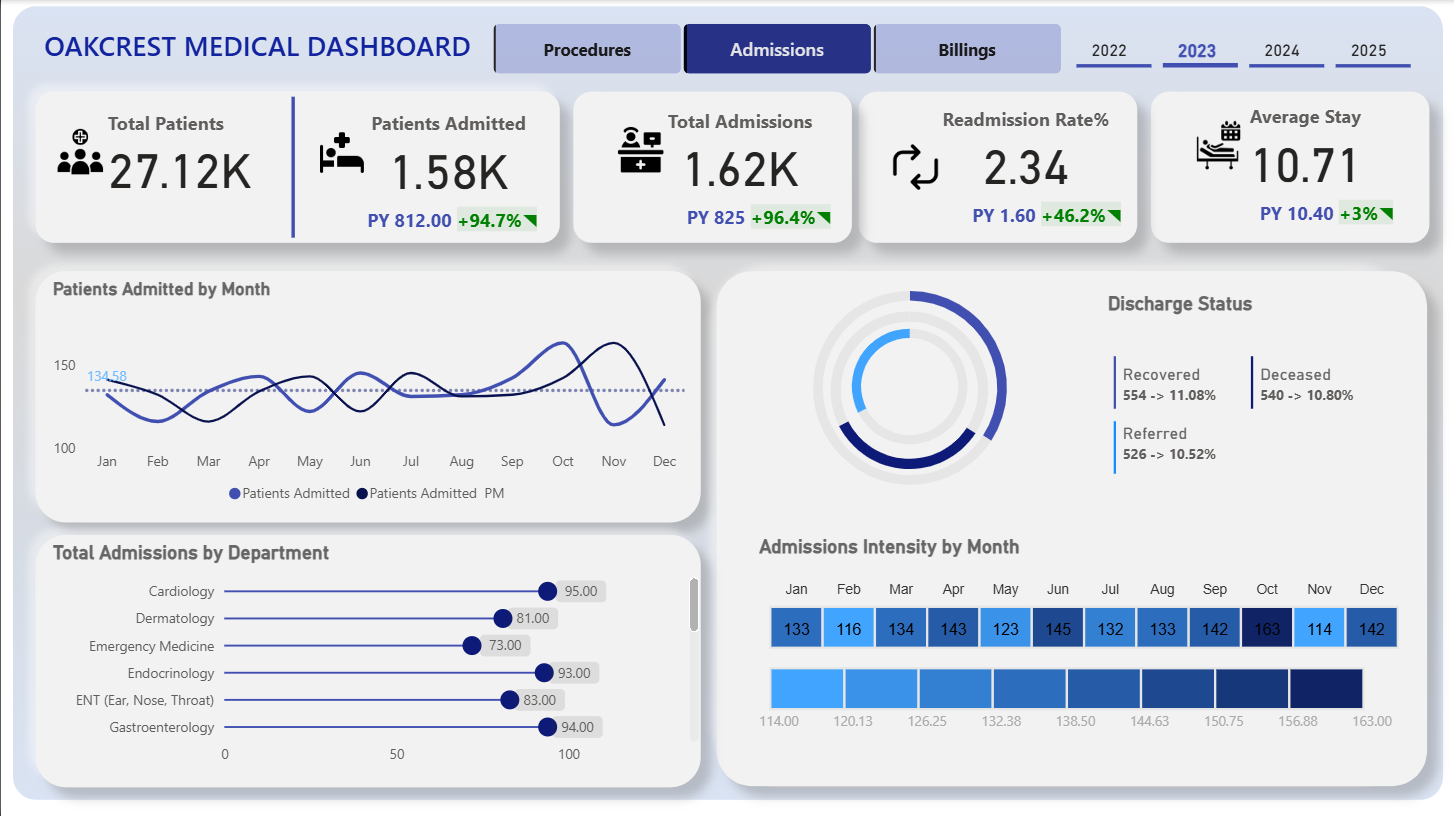

This screenshot's page, from the dashboard's own definition file:
{"tool":"powerbi","page":{"name":"Admissions","canvas":[1280,720],"ordinal":1},"visuals":[{"type":"advancedSlicerVisual","fields":{"Values":["Calendar.Year"]},"box":[941.7,17.8,305.4,47.1],"z":0},{"type":"advancedSlicerVisual","fields":{"Values":["admissions.DischargeStatus"]},"box":[969.2,302.6,252.6,114.1],"z":0,"group":"g1"},{"type":"cardVisual","fields":{"Data":["All Measures.Total Admissions"]},"box":[509,78.2,238.5,132.1],"z":1000},{"type":"shape","box":[967.9,314.1,24.4,46.2],"z":1000,"group":"g1"},{"type":"cardVisual","fields":{"Data":["All Measures.Readmission Rate (%)"]},"box":[756.4,73.1,246.2,148.7],"z":2000},{"type":"shape","box":[967.9,370.5,24.4,46.2],"z":2000,"group":"g1"},{"type":"cardVisual","fields":{"Data":["All Measures.Average Length of Stay"]},"box":[1003.5,72.6,238.5,144],"z":3000},{"type":"shape","box":[1094.8,314.1,12.8,46.2],"z":3000,"group":"g1"},{"type":"cardVisual","fields":{"Data":["All Measures.Total Patients"]},"box":[32.7,72.6,217.9,125.9],"z":4000},{"type":"cardVisual","fields":{"Data":["All Measures.Patients Admitted"]},"box":[251.1,79.9,238.6,134.9],"z":5000},{"type":"lineChart","title":"Patients Admitted by Month","fields":{"Y":["All Measures.Patients Admitted","All Measures.Patients PM"],"Category":["Calendar.Month"]},"box":[41.2,244.8,565.8,207.3],"z":6000},{"type":"clusteredBarChart","title":"Total Admissions by Department","fields":{"Category":["departments.DepartmentName"],"Y":["All Measures.Blank2","All Measures.Total Admissions","All Measures.Blank1"]},"box":[40.7,476.1,578.4,205.6],"z":7000},{"type":"donutChart","title":"Admissions by Discharge Status","fields":{"Y":["All Measures.Total Admissions"],"Category":["admissions.DischargeStatus"]},"box":[596.2,229.5,407.7,223.1],"z":8000,"group":"g2"},{"type":"group","id":"g1","title":"Group 1","box":[967.9,302.6,253.8,114.1],"z":8000},{"type":"group","id":"g2","title":"Group 2","box":[596.2,229.5,407.7,223.1],"z":9000},{"type":"donutChart","title":"Admissions by Discharge Status","fields":{"Y":["All Measures.Total Admissions"],"Category":["admissions.DischargeStatus"]},"box":[638.5,251.3,323.1,183.3],"z":10000,"group":"g2"},{"type":"TableHeatMap1443716069308","title":"Admissions Intensity by Month","fields":{"Y":["All Measures.Total Admissions"],"Category":["Calendar.Month"]},"box":[661.5,470.5,579.5,211.5],"z":10000},{"type":"textbox","box":[969.2,251.3,264.1,39.7],"z":11000},{"type":"donutChart","title":"Admissions by Discharge Status","fields":{"Y":["All Measures.Total Admissions"],"Category":["admissions.DischargeStatus"]},"box":[683.4,271.8,233.3,137.2],"z":11000,"group":"g2"},{"type":"pageNavigator","box":[433.4,20.6,501.1,44.8],"z":12000},{"type":"textbox","box":[32.7,18.2,392.2,49.6],"z":13000}]}

Visuals, with their boxes in screenshot pixels (x1, y1, x2, y2), scaled from the page's 1280x720 canvas onto the 1454x816 screenshot:
advancedSlicerVisual - Calendar.Year: (1070, 20, 1417, 74)
advancedSlicerVisual - admissions.DischargeStatus: (1101, 343, 1388, 472)
cardVisual - All Measures.Total Admissions: (578, 89, 849, 238)
shape: (1099, 356, 1127, 408)
cardVisual - All Measures.Readmission Rate (%): (859, 83, 1139, 251)
shape: (1099, 420, 1127, 472)
cardVisual - All Measures.Average Length of Stay: (1140, 82, 1411, 245)
shape: (1244, 356, 1258, 408)
cardVisual - All Measures.Total Patients: (37, 82, 285, 225)
cardVisual - All Measures.Patients Admitted: (285, 91, 556, 243)
"Patients Admitted by Month" lineChart: (47, 277, 690, 512)
"Total Admissions by Department" clusteredBarChart: (46, 540, 703, 773)
"Admissions by Discharge Status" donutChart: (677, 260, 1140, 513)
"Group 1" group: (1099, 343, 1388, 472)
"Group 2" group: (677, 260, 1140, 513)
"Admissions by Discharge Status" donutChart: (725, 285, 1092, 493)
"Admissions Intensity by Month" TableHeatMap1443716069308: (751, 533, 1410, 773)
textbox: (1101, 285, 1401, 330)
"Admissions by Discharge Status" donutChart: (776, 308, 1041, 464)
pageNavigator: (492, 23, 1062, 74)
textbox: (37, 21, 483, 77)
